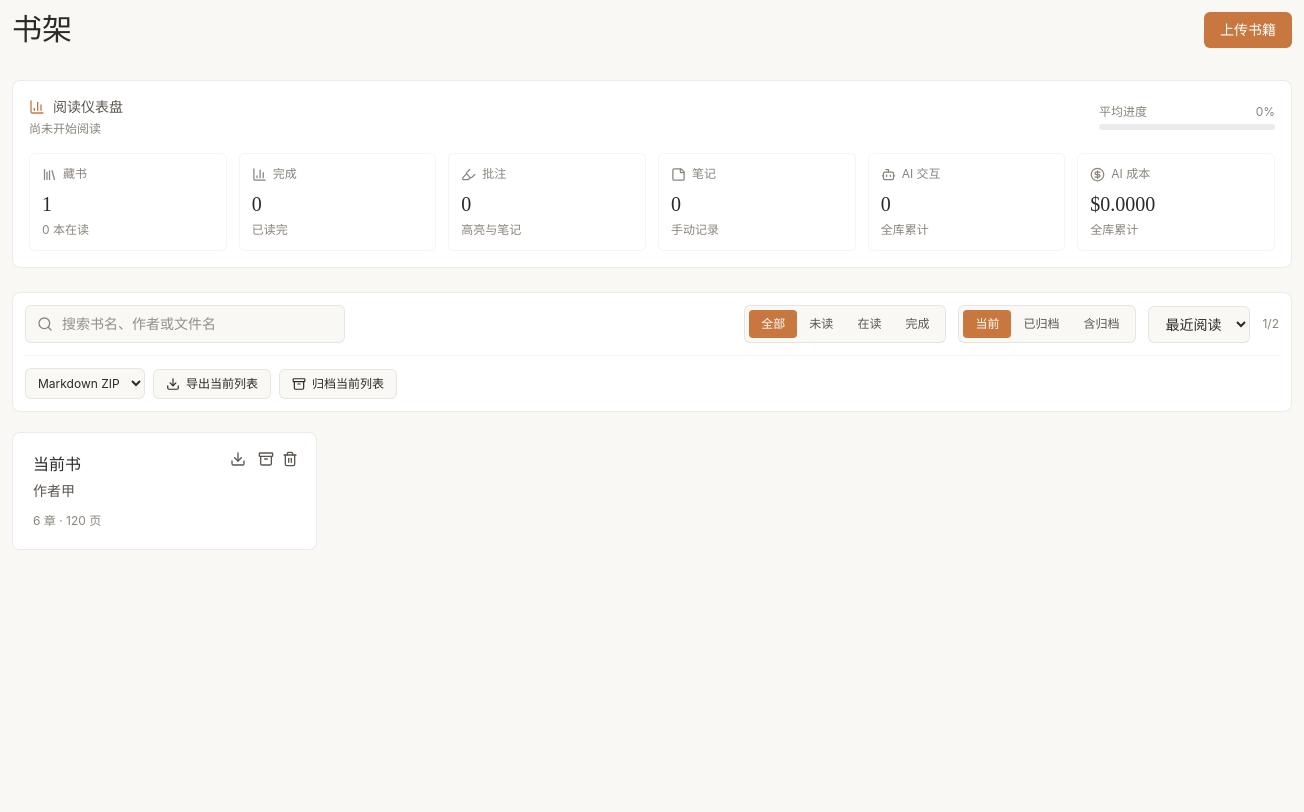
Scenario: BookList › announces restore failures and restores the bulk action button
Click the button "已归档" at (1041, 324), box [1011,310,1071,338]
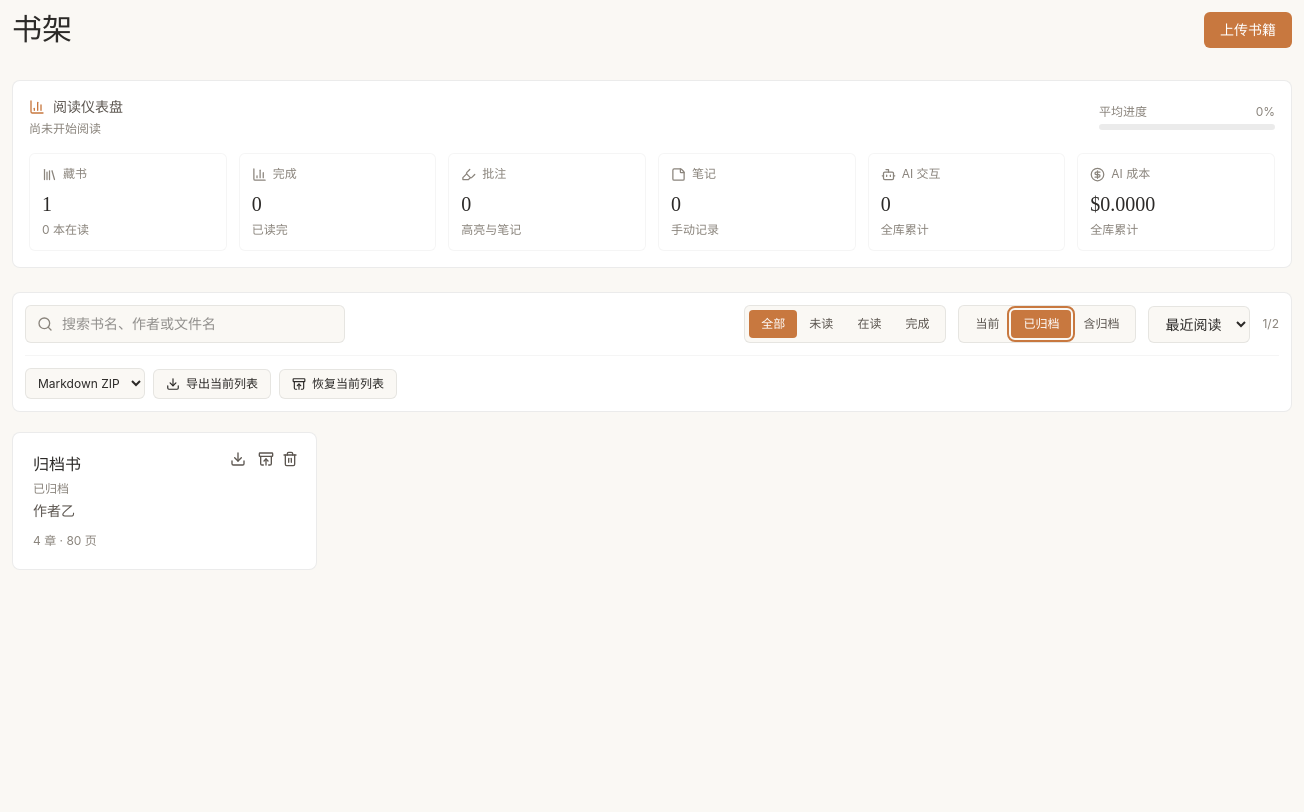
Click the button with aria-label "恢复当前列表，共 1 本" at (338, 384), box [279,368,397,398]
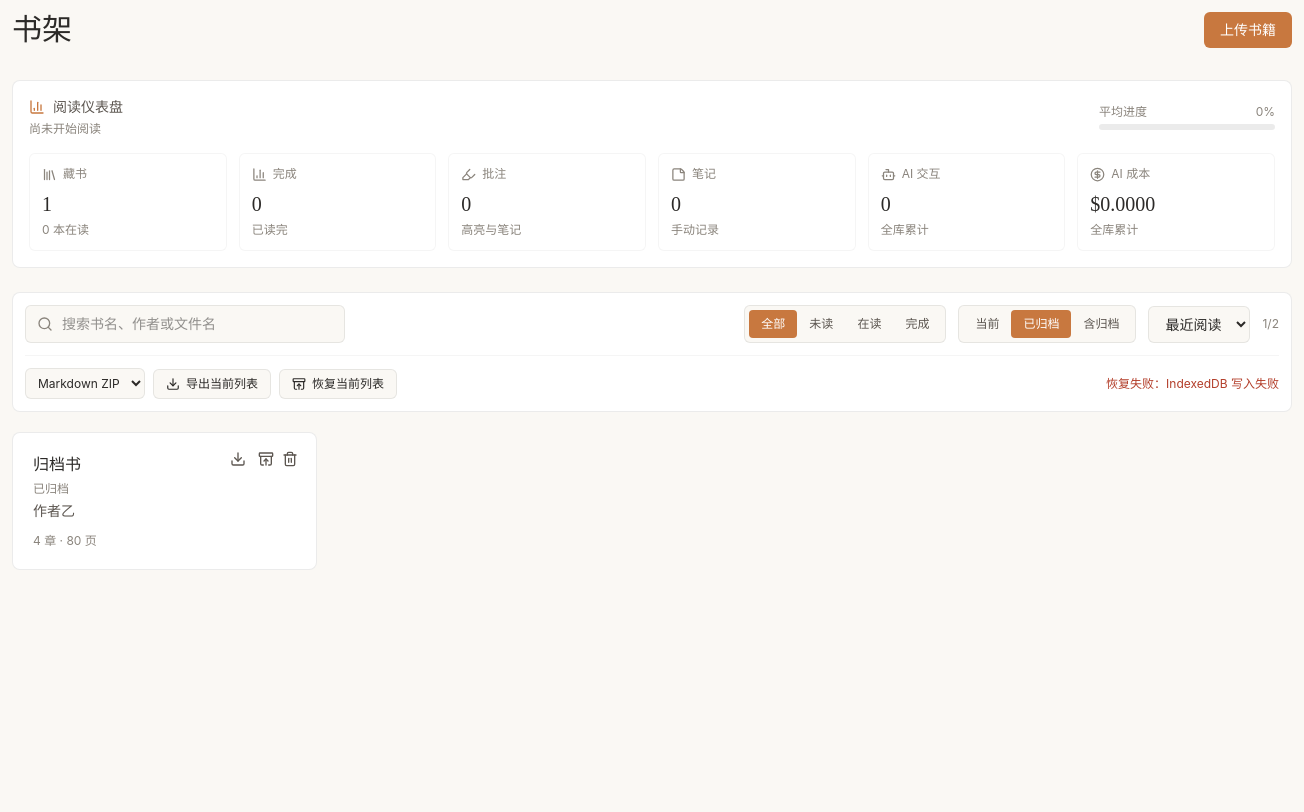
Check: the message "恢复失败：IndexedDB 写入失败" is shown, box [1106,376,1279,392]
